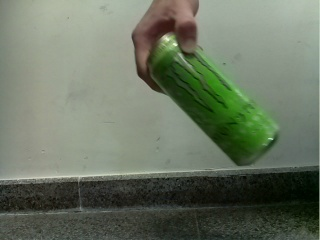botella plastico: (146, 31, 280, 167)
